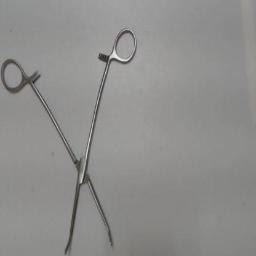Lahey Forceps: (1, 22, 141, 256)
